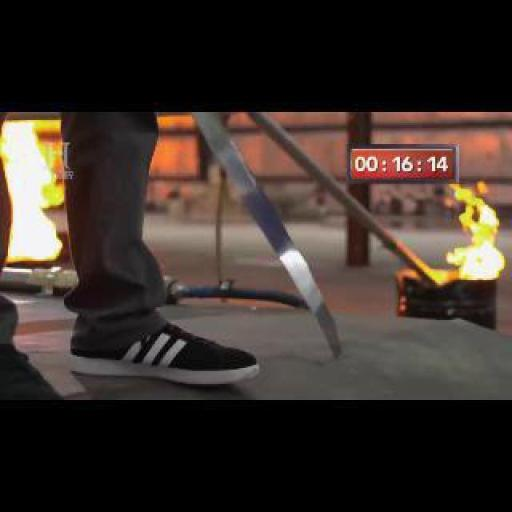smoke: (3, 120, 66, 264), (446, 184, 504, 283)
